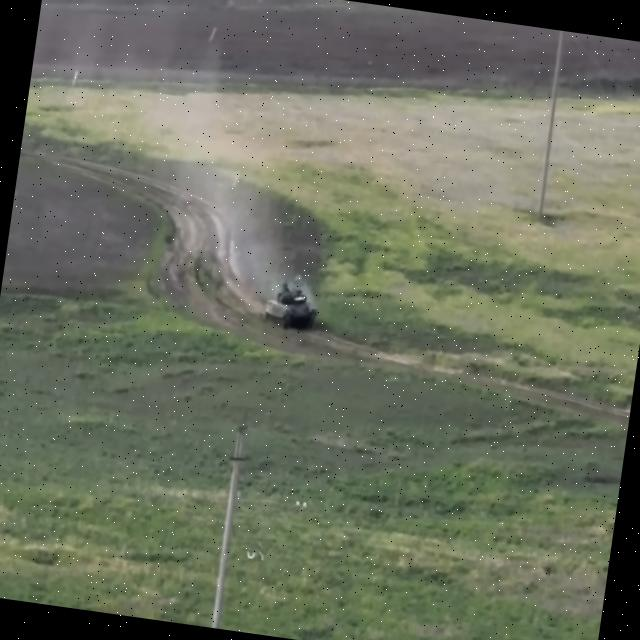MBT: (260, 278, 324, 336)
